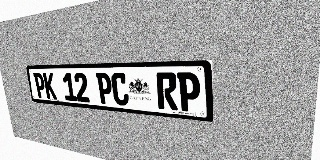1: (61, 73, 77, 101)
2: (73, 73, 90, 102)
C: (111, 72, 129, 106)
K: (43, 73, 57, 99)
P: (177, 72, 201, 113), (96, 73, 113, 105), (33, 73, 47, 98)
R: (156, 72, 178, 110)
